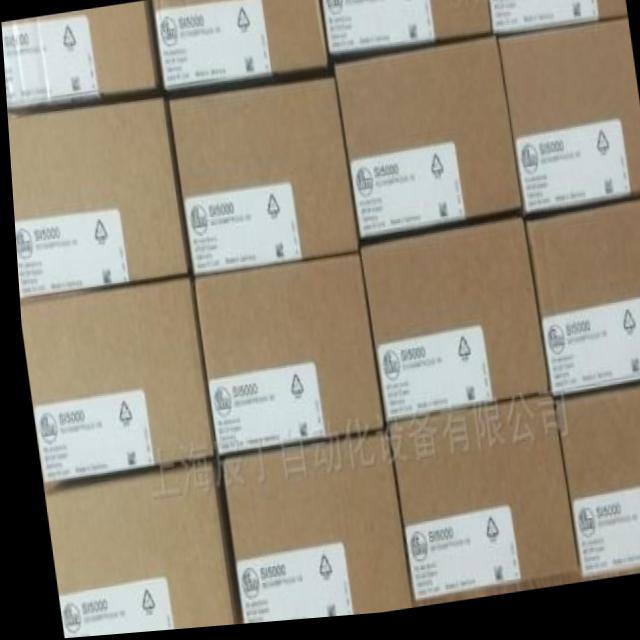box: (16, 280, 213, 490), (378, 398, 571, 611), (328, 43, 520, 253), (190, 257, 380, 462), (355, 226, 544, 428), (166, 81, 356, 279), (6, 101, 189, 302), (213, 436, 403, 627), (38, 462, 234, 639), (496, 26, 640, 226), (520, 207, 640, 407), (545, 391, 640, 585), (1, 1, 162, 114), (151, 0, 331, 100), (320, 0, 492, 69), (487, 0, 625, 42)
